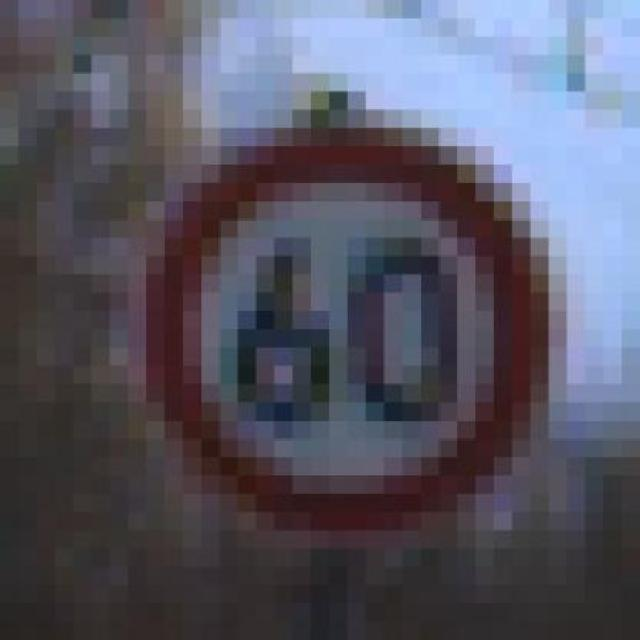forb_speed_over_60: (143, 125, 540, 525)
